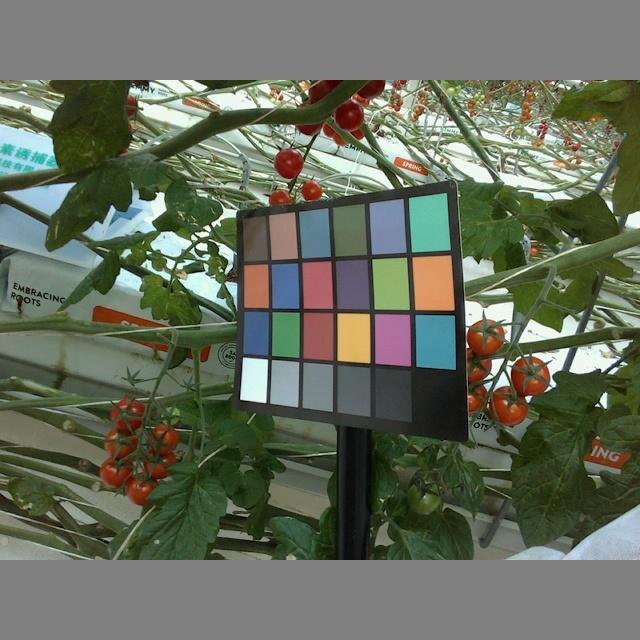red: (489, 382, 529, 424), (511, 356, 551, 397), (109, 399, 148, 436), (466, 318, 504, 355), (99, 452, 135, 489), (103, 424, 139, 460), (126, 472, 161, 507), (145, 449, 181, 481), (464, 347, 494, 385), (273, 146, 304, 179), (146, 422, 177, 454), (333, 99, 366, 129), (463, 377, 487, 412), (302, 178, 323, 201)
